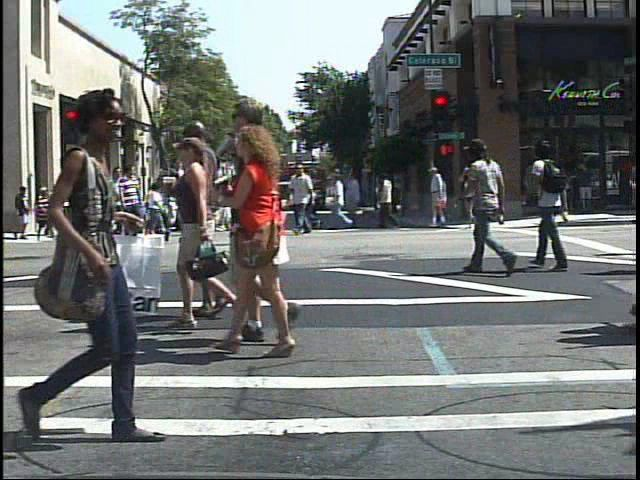person: (2, 81, 169, 452), (215, 119, 318, 364), (208, 93, 307, 345), (526, 133, 579, 277), (464, 131, 515, 279), (158, 156, 196, 247), (54, 165, 84, 246), (114, 161, 143, 244), (424, 160, 455, 232), (102, 163, 130, 242), (32, 184, 57, 245), (88, 181, 108, 222)
